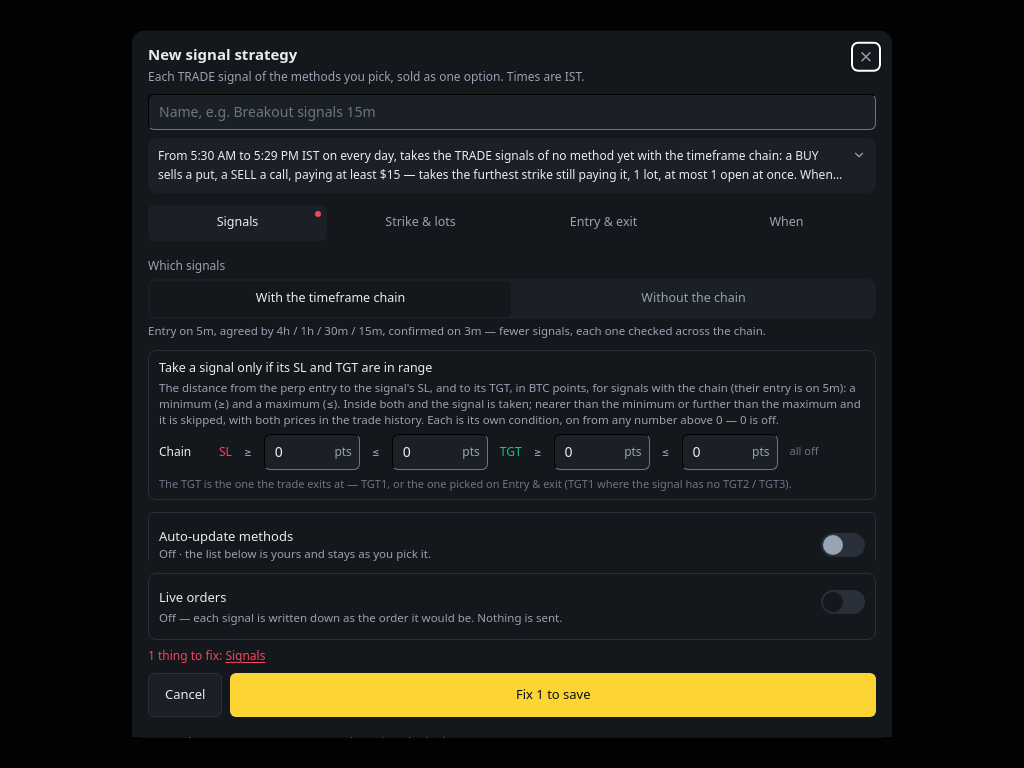
Test case: a form of its own: only what a signal strategy has › [critical] a new one opens on Signals: four tabs, one lot, live orders off -- nothing a clock strategy has
What coordinates should you click on to do the following:
click the tab "Strike & lots"
I would click on:
 (420, 222)
Its box is [331,204,510,240].
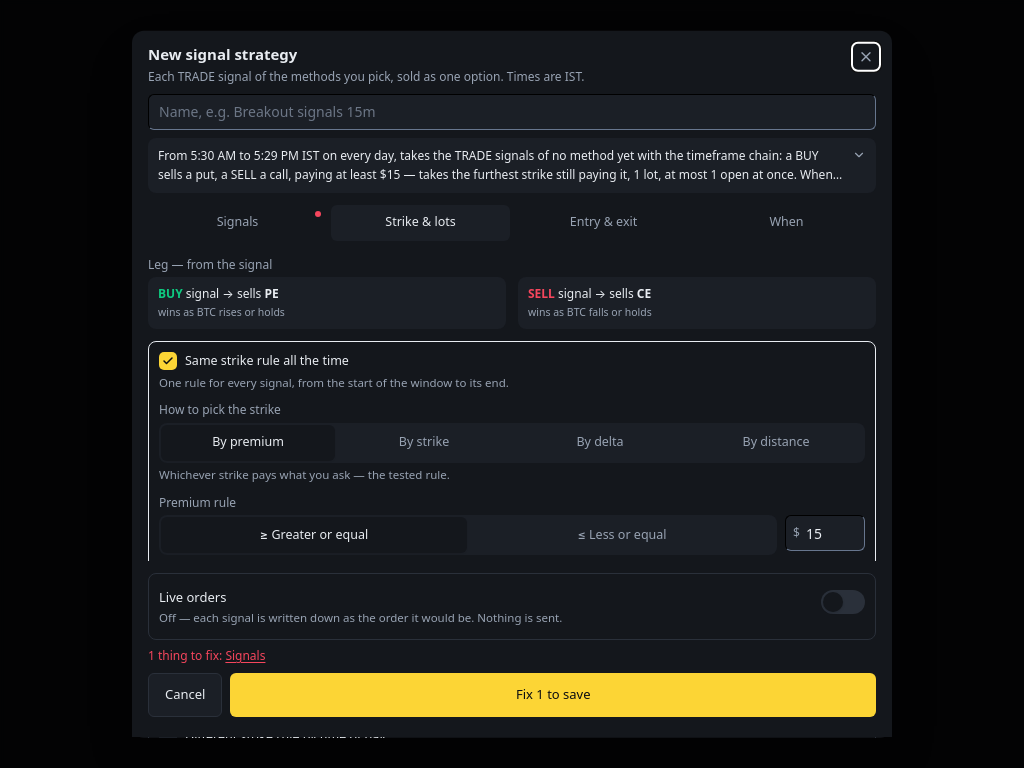
What coordinates should you click on to do the following:
click the tab "Entry & exit"
I would click on:
 (604, 222)
Its box is [514,204,693,240].
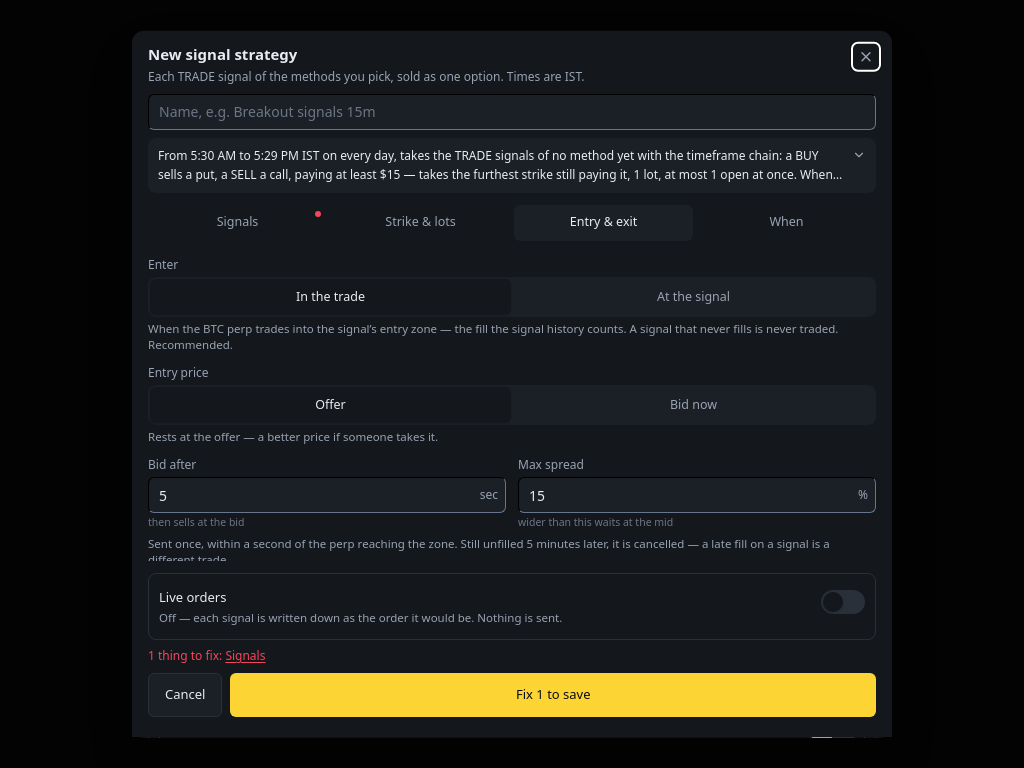
What coordinates should you click on to do the following:
click the tab "When"
I would click on:
 (786, 222)
Its box is [697,204,876,240].
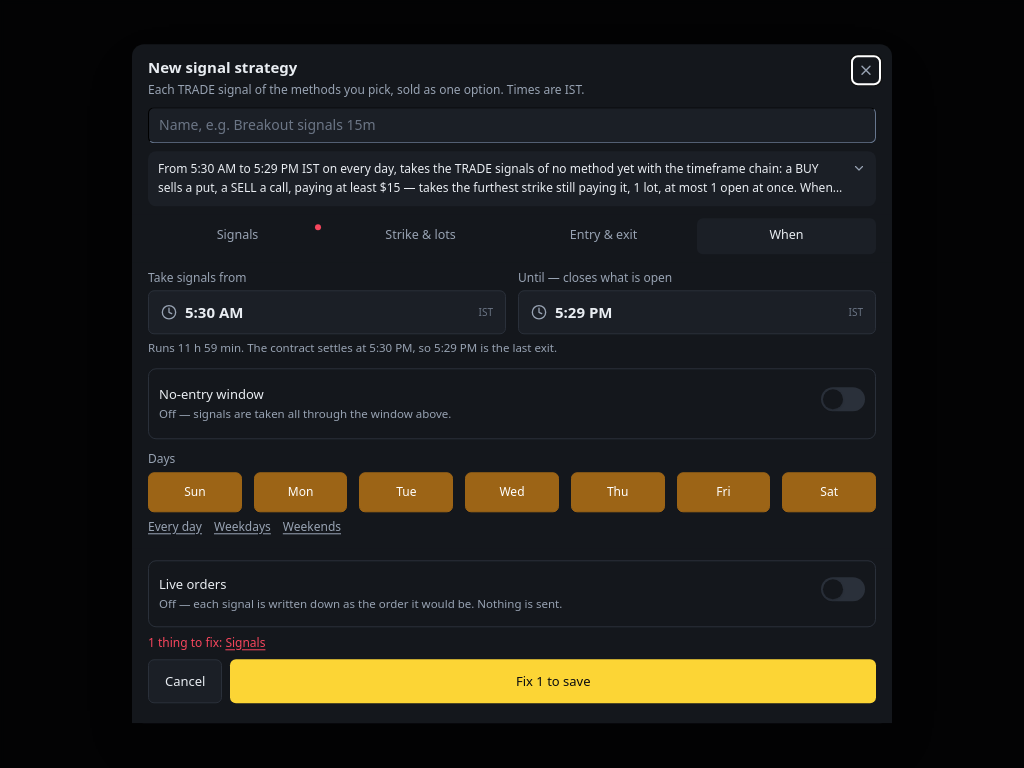
Check: the button with aria-label "Take signals from:" is shown, box [148,290,506,334]
